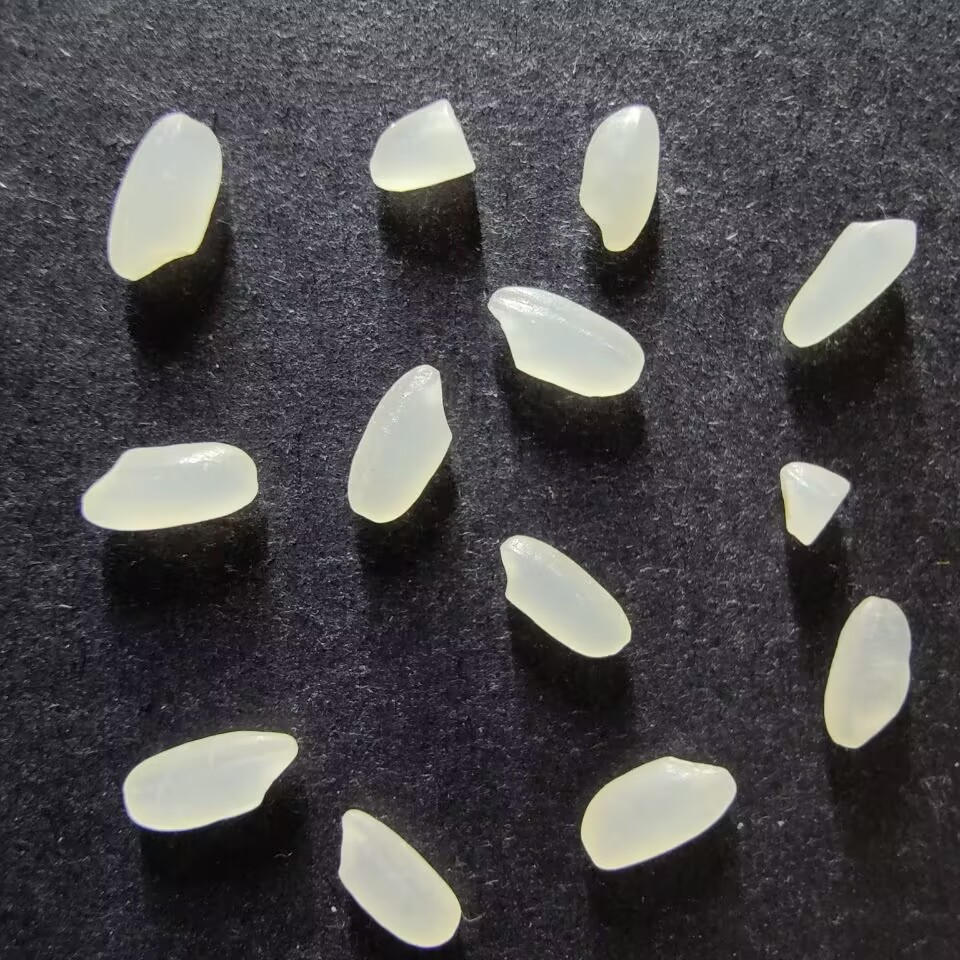broken: (368, 97, 478, 194), (778, 458, 853, 549)
rice: (105, 111, 223, 282), (578, 753, 739, 872), (121, 727, 300, 832), (486, 284, 646, 398), (781, 217, 919, 349), (335, 807, 462, 949), (344, 362, 454, 524), (498, 533, 633, 658), (79, 440, 259, 532), (821, 595, 912, 750), (576, 104, 663, 253)
